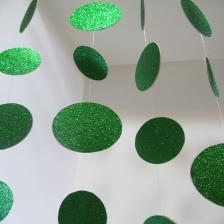green: (52, 102, 122, 153), (135, 117, 185, 164), (191, 144, 224, 207), (58, 191, 107, 224), (70, 2, 122, 31), (0, 103, 32, 150), (135, 42, 160, 91), (73, 46, 108, 80), (0, 47, 41, 75), (181, 0, 212, 36), (19, 0, 38, 33), (0, 181, 13, 222), (206, 57, 219, 97), (144, 216, 176, 224), (141, 0, 145, 30)
